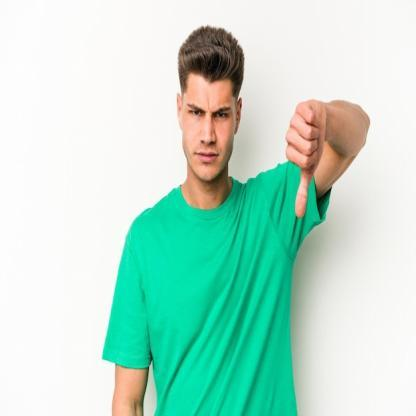thumb_down: (282, 95, 328, 218)
